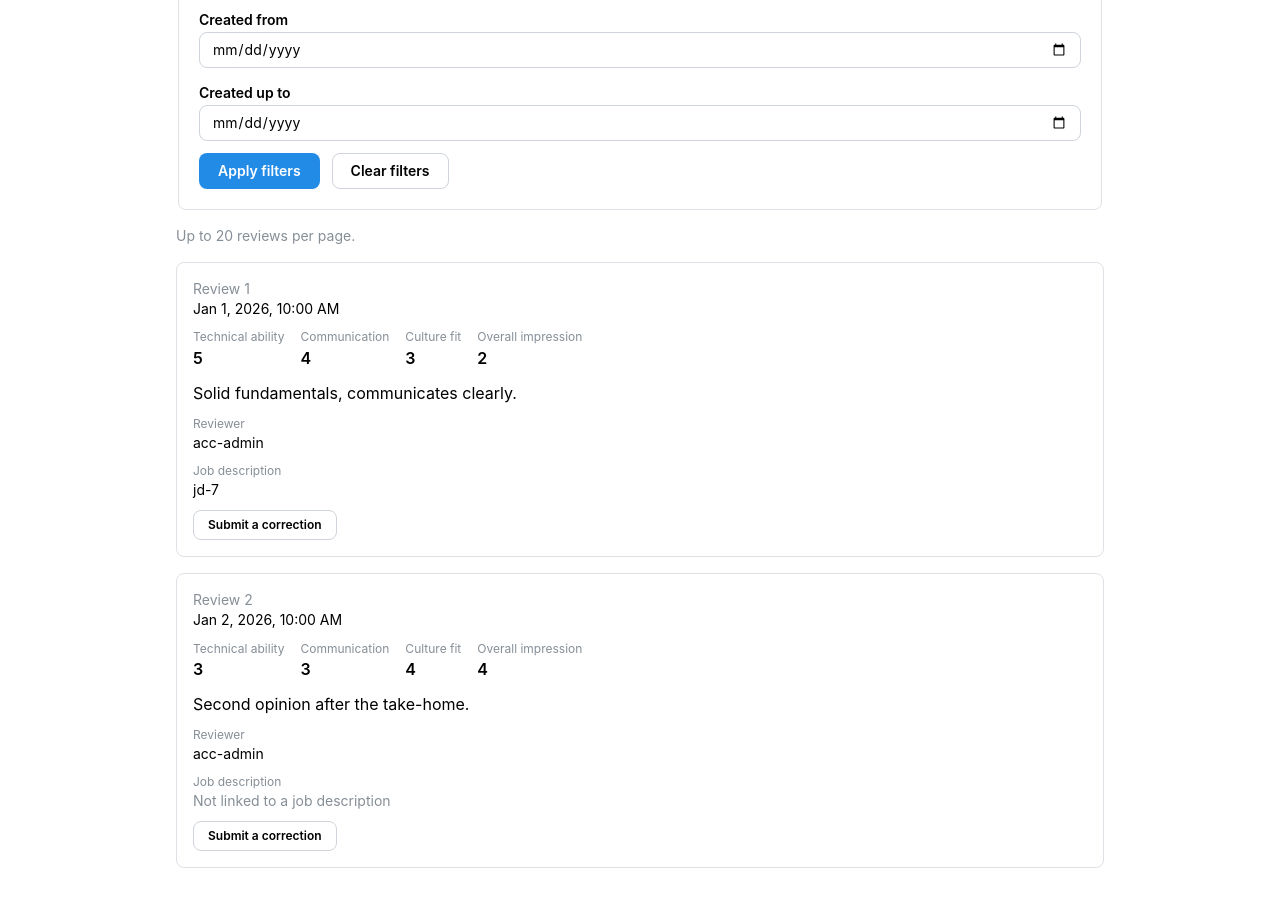
it: the correction control (Req 15 AC4) › opens the form pre-filled with the prior Review’s ratings, assessment and Job_Description
(page scrolled)
Expected: the list with test id "review-timeline" is shown, [176,262,1104,868]
What coordinates should you click on to do the following:
click the button "Submit a correction" below "jd-7"
I would click on:
 (265, 525)
Its box is [193,510,337,540].
(page scrolled)
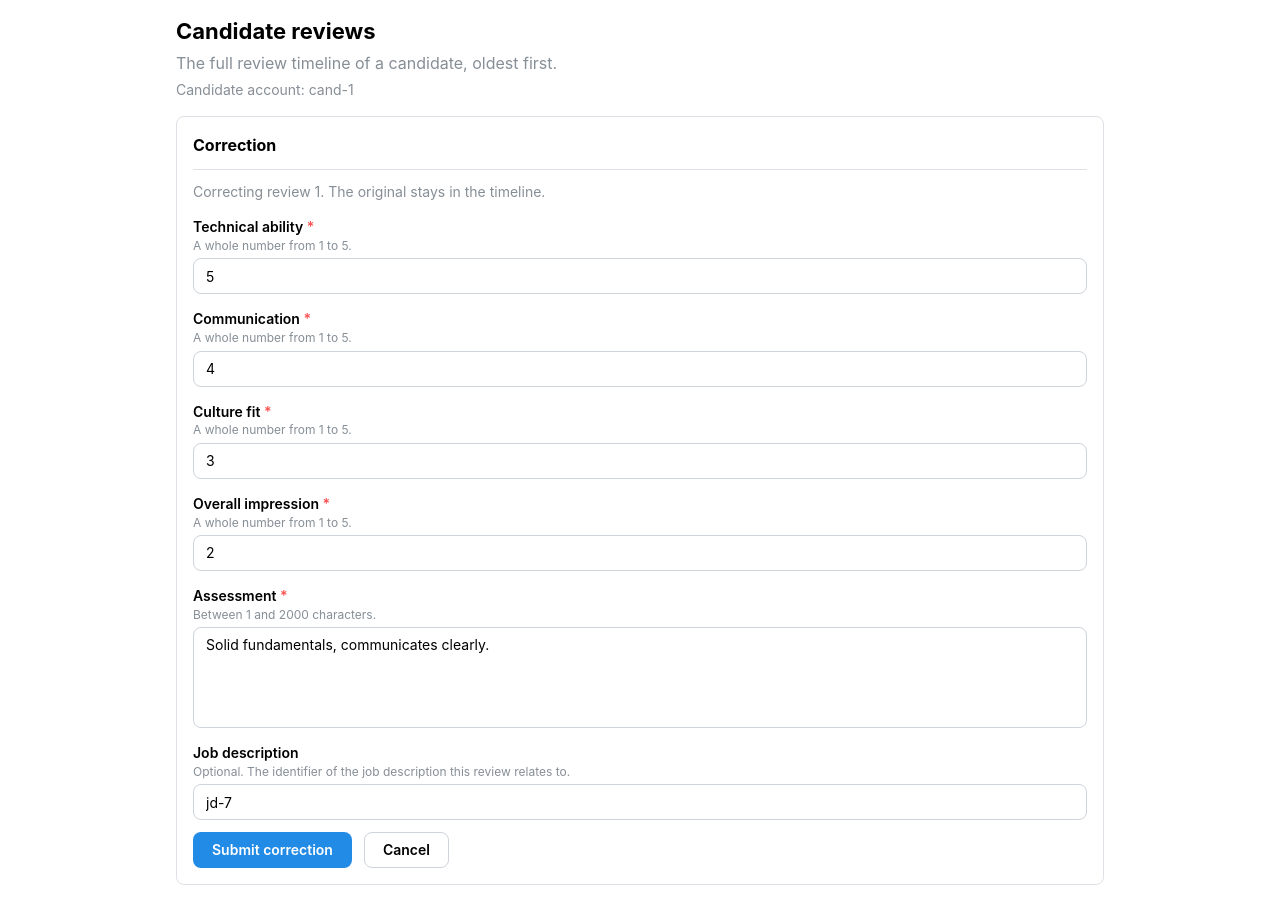
Result: the form with test id "review-correction-form" is shown at [193,182,1087,868]
Result: the text with test id "review-correction-corrects" shows "Correcting review 1" at [193,183,545,200]
Result: the text with test id "review-correction-corrects" shows "The original stays in the timeline" at [193,183,545,200]
